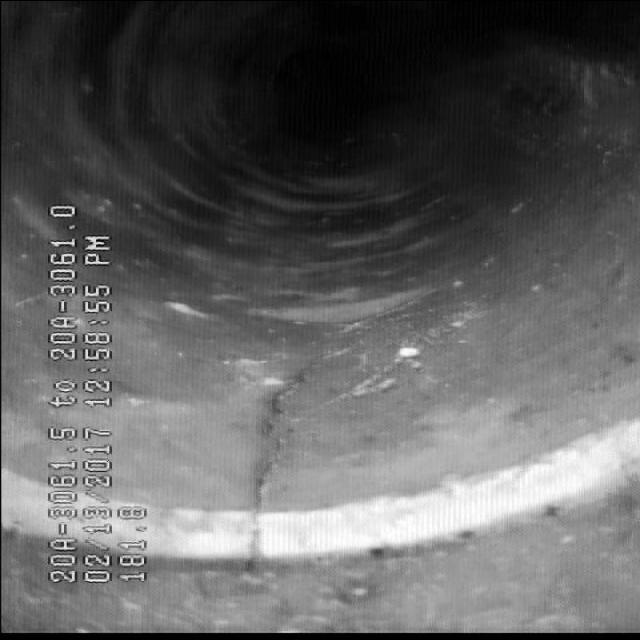Crack: (213, 354, 322, 494)
